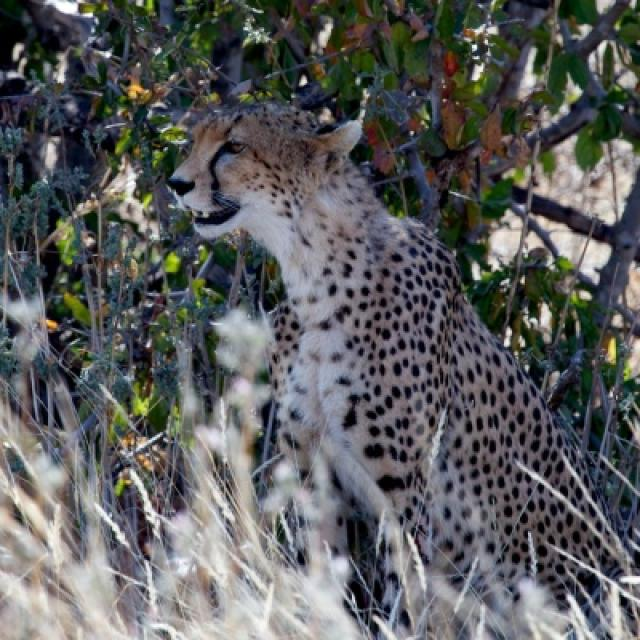Cheetah: (166, 102, 624, 629)
